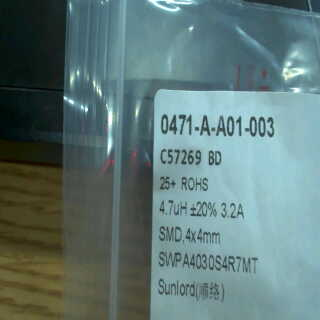4.7uH: (158, 194, 189, 217)
